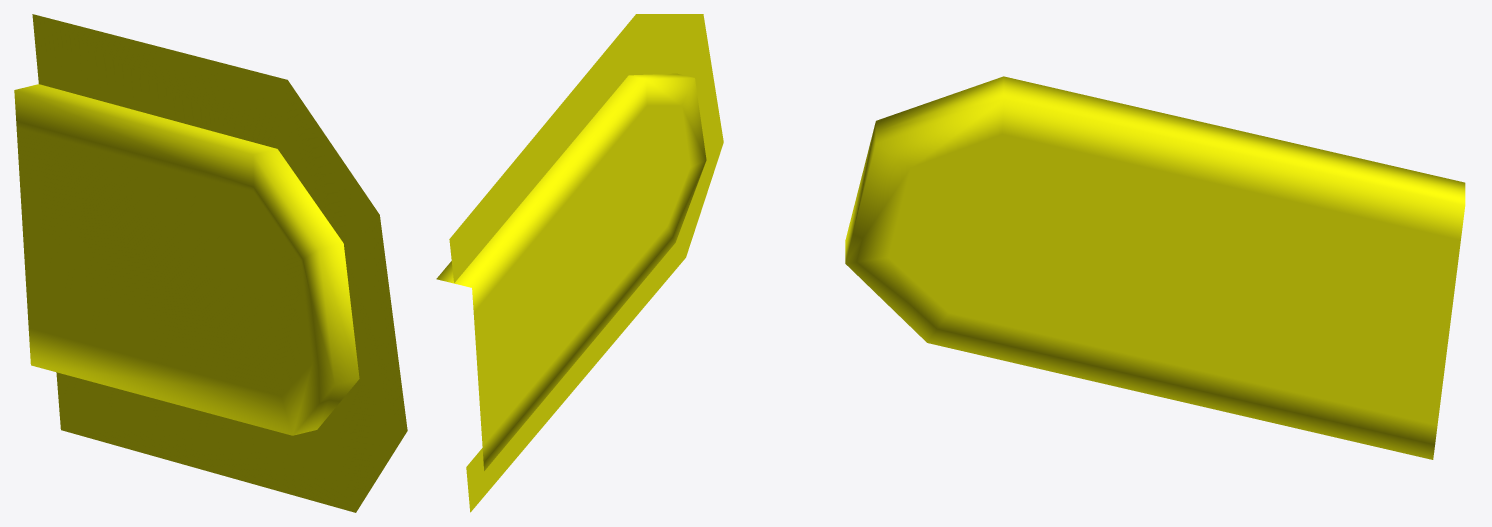
Rendered from Cosmetic8Model.glb.
3 renders of one model, left to right at view 1: azimuth 30°, elevation 25°; view 2: azimuth 150°, elevation 25°; view 3: azimuth 270°, elevation 25°, orthographic. The views are drawn at different scales.
Parts seen in each view (by area): view 1: ChainsawMan; view 2: ChainsawMan; view 3: ChainsawMan.
Part boxes in pixels (x1,y1,x2,y2): ChainsawMan: [14, 14, 407, 512]; ChainsawMan: [436, 14, 723, 512]; ChainsawMan: [845, 76, 1465, 459].
Size of the model in its own units: 0.0172 by 0.1733 by 0.2283.
1 material, 1 textured.
